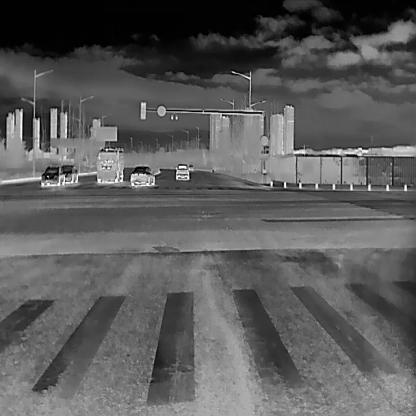car: (96, 145, 124, 183), (129, 164, 155, 186), (41, 163, 65, 186), (61, 164, 78, 184), (174, 163, 189, 180), (188, 163, 194, 171)
